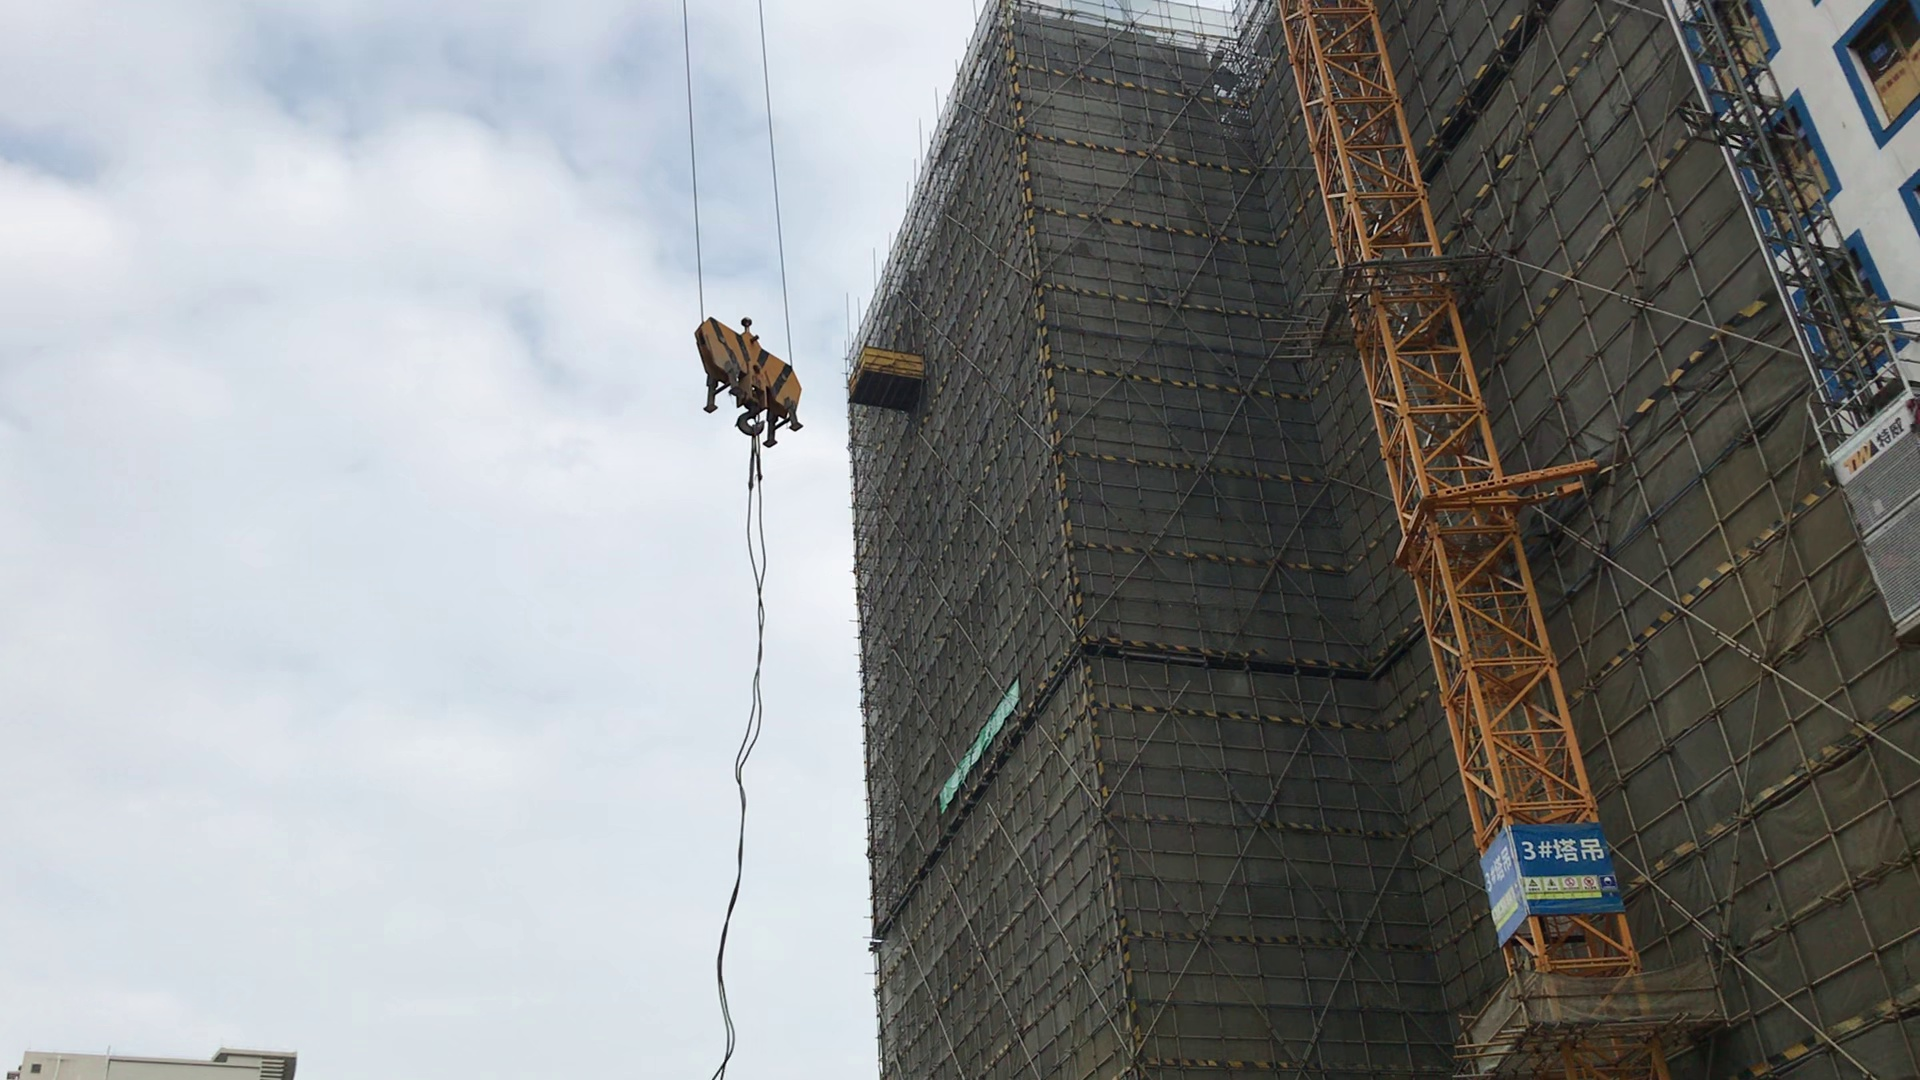hook: (691, 313, 816, 435)
slogan: (928, 659, 1065, 785)
